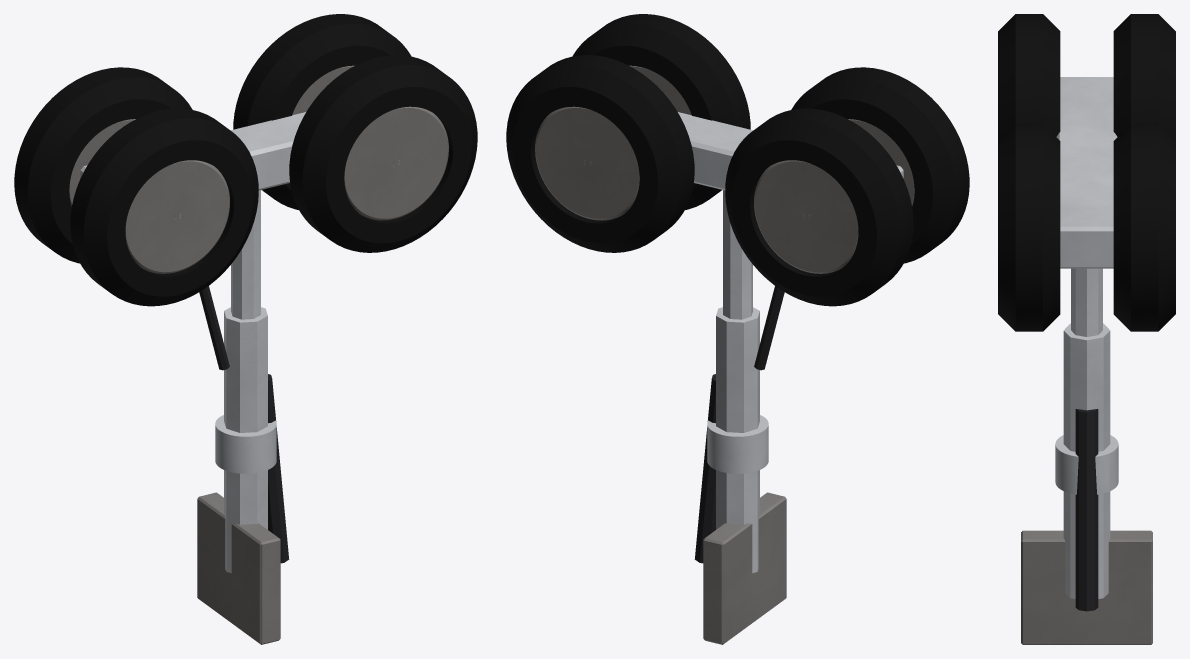
Rendered from ax_gear_03_bogie_gear_l_stowed.glb.
3 renders of one model, left to right at view 1: azimuth 30°, elevation 25°; view 2: azimuth 150°, elevation 25°; view 3: azimuth 270°, elevation 25°, orthographic. The views are drawn at different scales.
Visible parts, largest first — view 1: wheel_tyres, wheel_hubs, gear_leg, mount_block, gear_links; view 2: wheel_tyres, wheel_hubs, gear_leg, mount_block, gear_links; view 3: wheel_tyres, gear_leg, mount_block, gear_links.
Part boxes in pixels (x1,y1,x2,y2): wheel_tyres: [14, 14, 477, 306]; wheel_hubs: [69, 65, 448, 273]; gear_leg: [80, 112, 305, 573]; mount_block: [197, 492, 280, 644]; gear_links: [199, 286, 289, 563]; wheel_tyres: [506, 14, 969, 306]; wheel_hubs: [535, 65, 914, 273]; gear_leg: [678, 112, 903, 573]; mount_block: [703, 492, 786, 644]; gear_links: [694, 286, 784, 563]; wheel_tyres: [998, 14, 1175, 331]; gear_leg: [1055, 77, 1118, 598]; mount_block: [1021, 530, 1152, 644]; gear_links: [1075, 409, 1098, 611].
Bounding box in the file's own units: 2.25 × 3 × 0.8549.
Materials: 4 (2 with a texture image).
